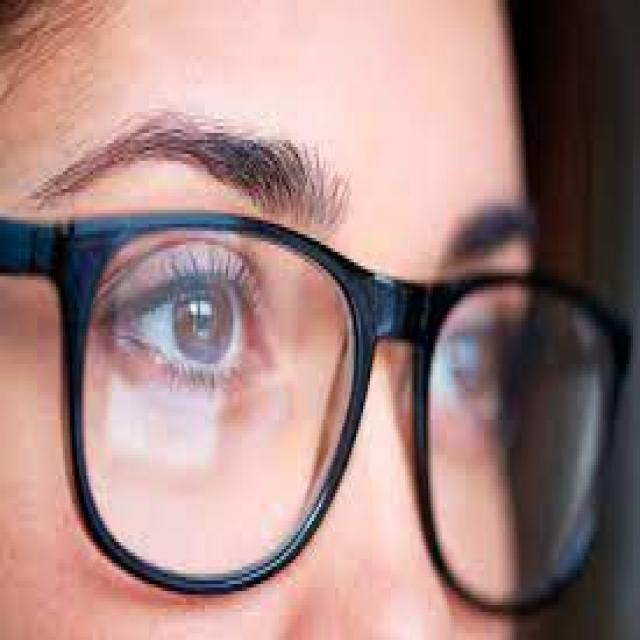glasses: (64, 171, 621, 612)
